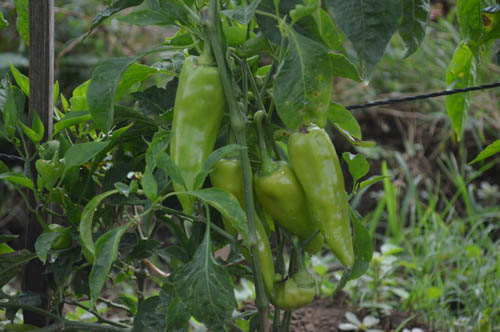ChiliPepper: (287, 129, 356, 263), (208, 157, 268, 287), (170, 59, 218, 217), (259, 165, 318, 250), (269, 279, 315, 312)
